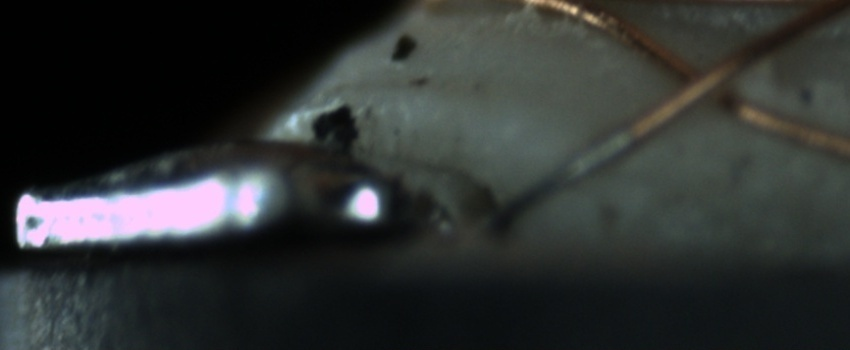CL: (648, 40, 768, 127)
TS: (463, 127, 635, 233)
